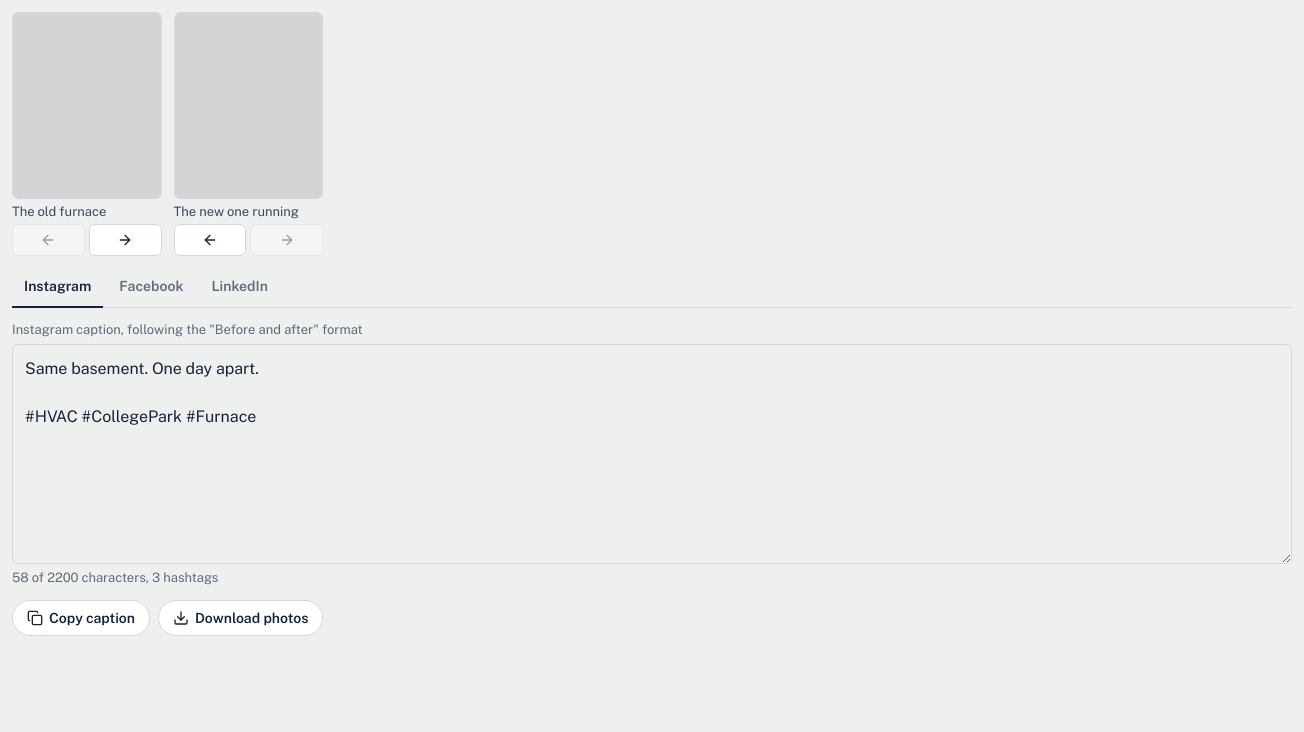
PostPreview › downloads the photos in posting order on a laptop
The width and height of the screenshot is (1304, 732).
Click the button named "Move photo 1 later": (125, 240) x1=89 y1=224 x2=162 y2=256
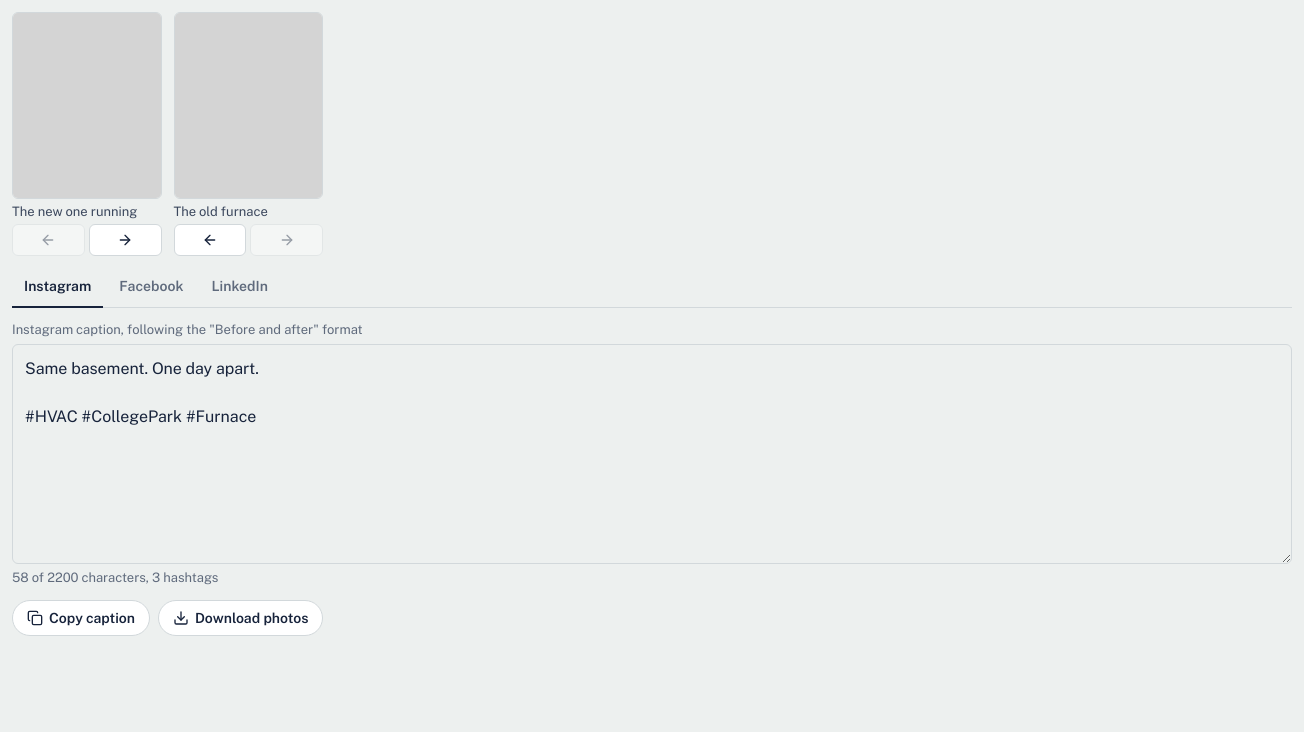
Click the button "Download photos": (241, 618) x1=158 y1=600 x2=324 y2=636
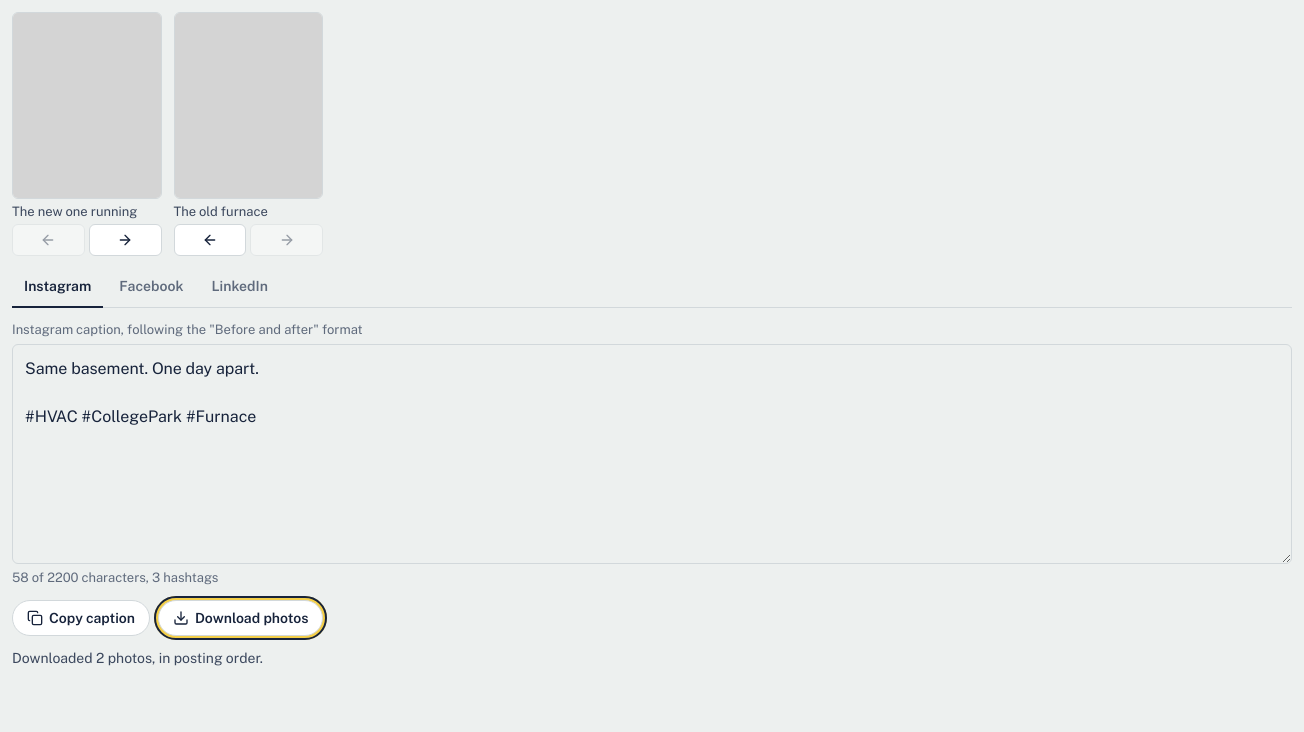
Check: the message reads "Downloaded 2 photos, in posting order.", box x1=12 y1=650 x2=263 y2=666
